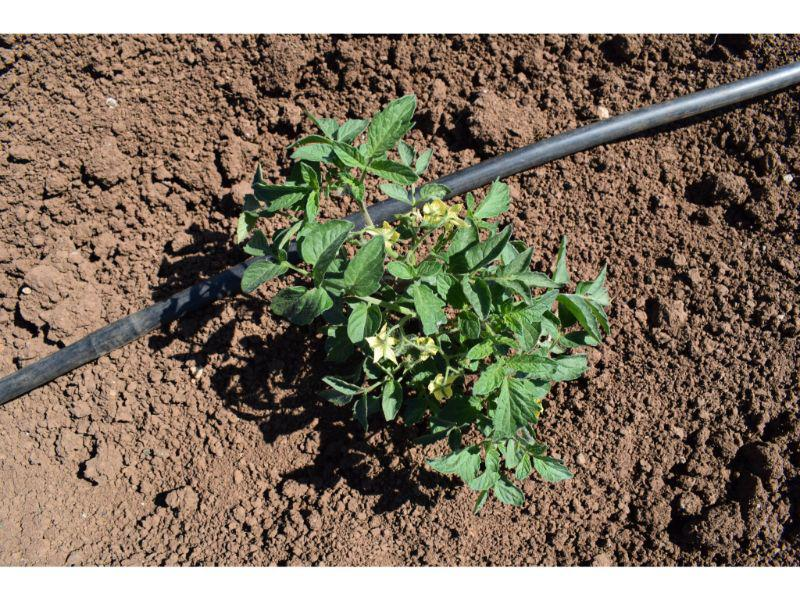tomato: (234, 94, 610, 517)
